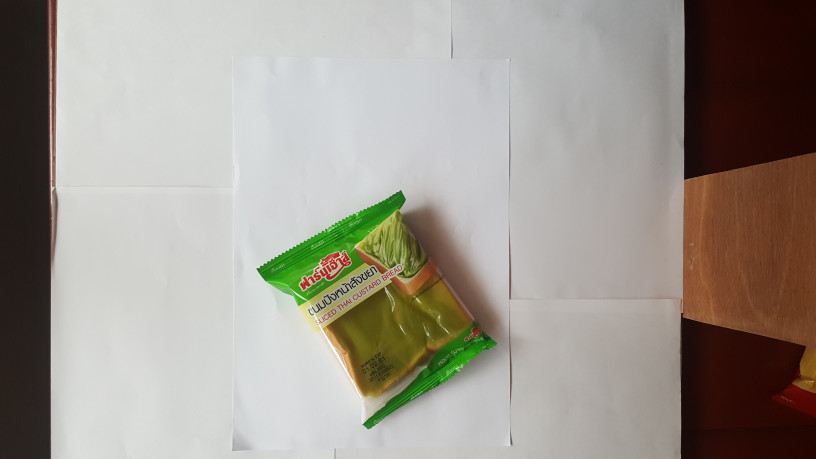farmhouse-bread-pandan: (249, 195, 501, 433)
